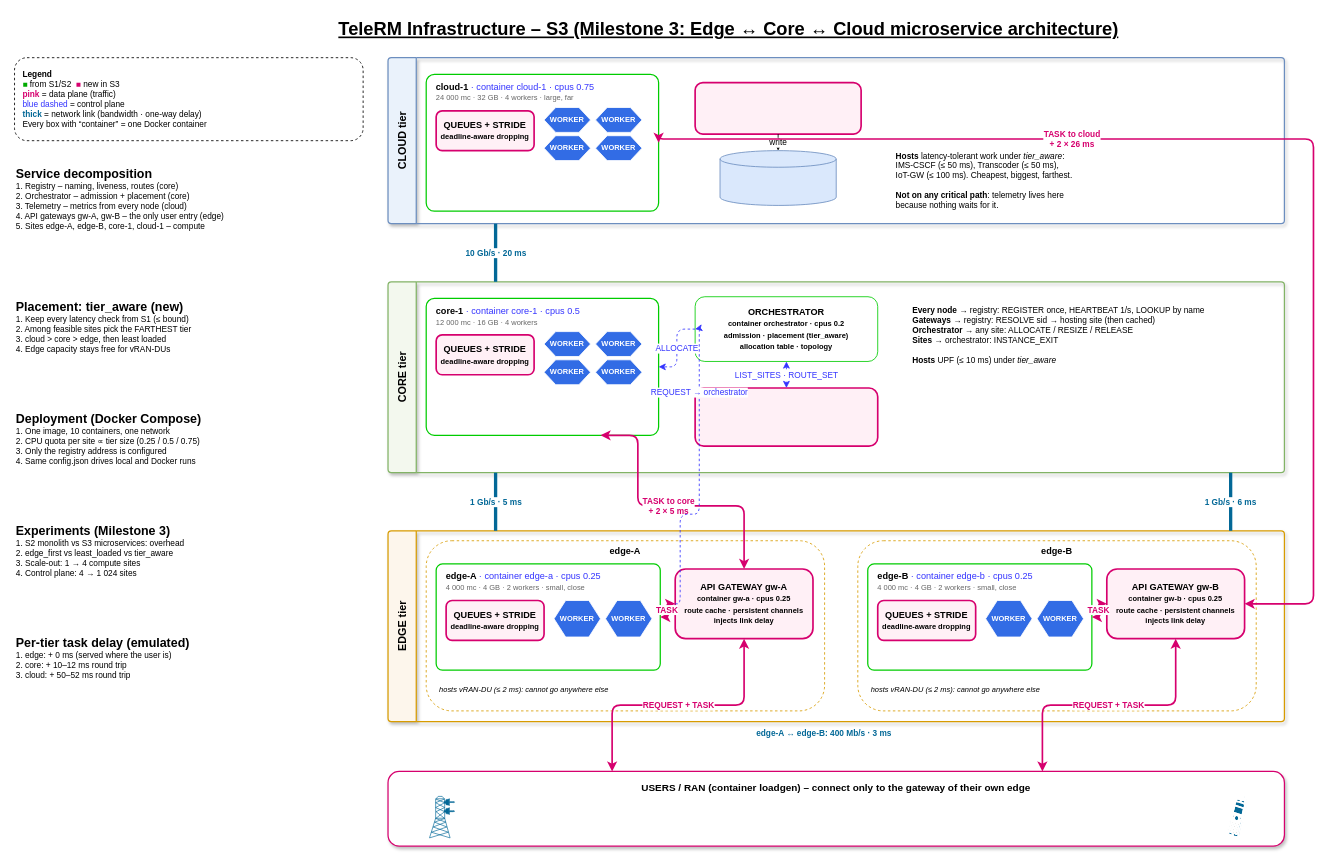
Some shapes in this 1336 by 867 pixel diagram are drawn without their labels. The shapes that lost their labels are listed below. From the top down, each one's centre as x and y in pixels, then its label:
At pixel 778 107: "TELEMETRY container telemetry · cpus 0.2 REPORT from every node, 1 s".
At pixel 777 177: "telemetry.jsonl runs.csv · tasks.csv".
At pixel 786 417: "REGISTRY container registry · cpus 0.2 naming · liveness · routes (sid → site)".
